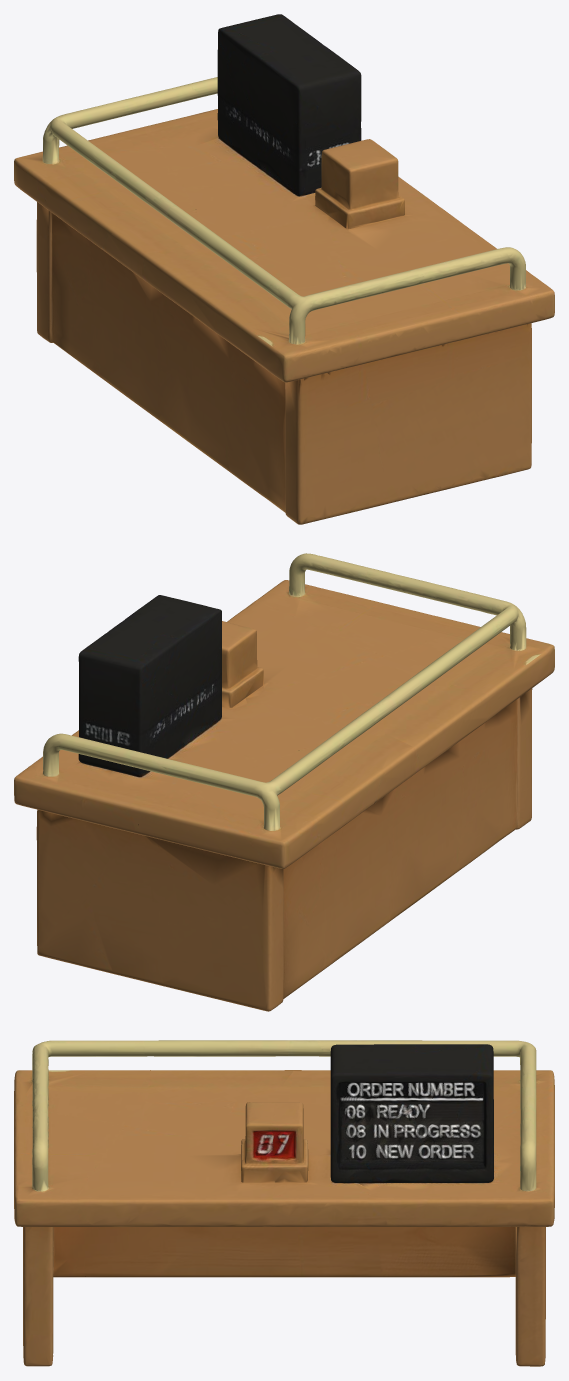
The model's file is KR_사물_s1_counter_takeout_old.glb.
3 views of the same model, one above another, from view 1: azimuth 30°, elevation 25°; view 2: azimuth 150°, elevation 25°; view 3: azimuth 270°, elevation 25° (orthographic).
Parts seen in each view (by area): view 1: tripo_node_bbd42df8-2dea-4961-829d-4556220a9292; view 2: tripo_node_bbd42df8-2dea-4961-829d-4556220a9292; view 3: tripo_node_bbd42df8-2dea-4961-829d-4556220a9292.
Boxes of the visible parts, x1,y1,x2,y2 form: tripo_node_bbd42df8-2dea-4961-829d-4556220a9292: (14,14,554,524); tripo_node_bbd42df8-2dea-4961-829d-4556220a9292: (14,553,554,1011); tripo_node_bbd42df8-2dea-4961-829d-4556220a9292: (14,1040,554,1366).
Bounding box in the file's own units: 0.578 × 0.584 × 1.
Materials: 1 (1 with a texture image).
